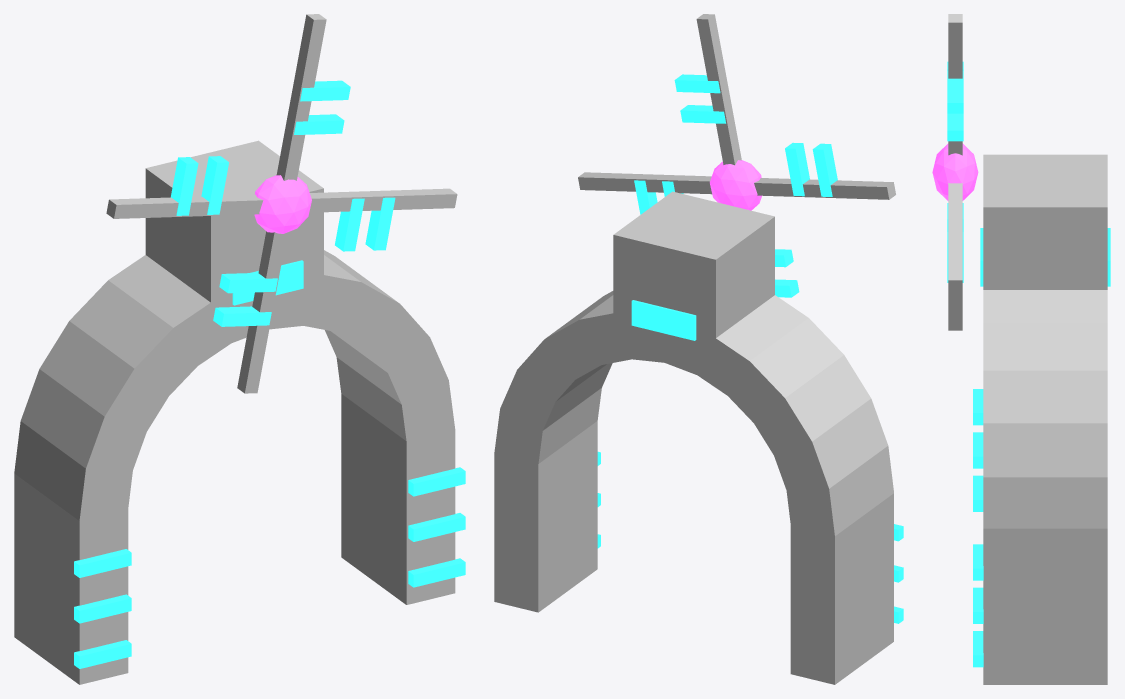
3 renders of one model, left to right at view 1: azimuth 30°, elevation 25°; view 2: azimuth 150°, elevation 25°; view 3: azimuth 270°, elevation 25°, orthographic. The views are drawn at different scales.
Parts seen in each view (by area): view 1: Neon_WindmillGate_Standard; view 2: Neon_WindmillGate_Standard; view 3: Neon_WindmillGate_Standard.
Part boxes in pixels (<box>): Neon_WindmillGate_Standard: <box>14,14,465,684</box>; Neon_WindmillGate_Standard: <box>494,14,903,684</box>; Neon_WindmillGate_Standard: <box>932,14,1110,684</box>.
Size of the model in its own units: 2.22 by 3.44 by 0.93.
